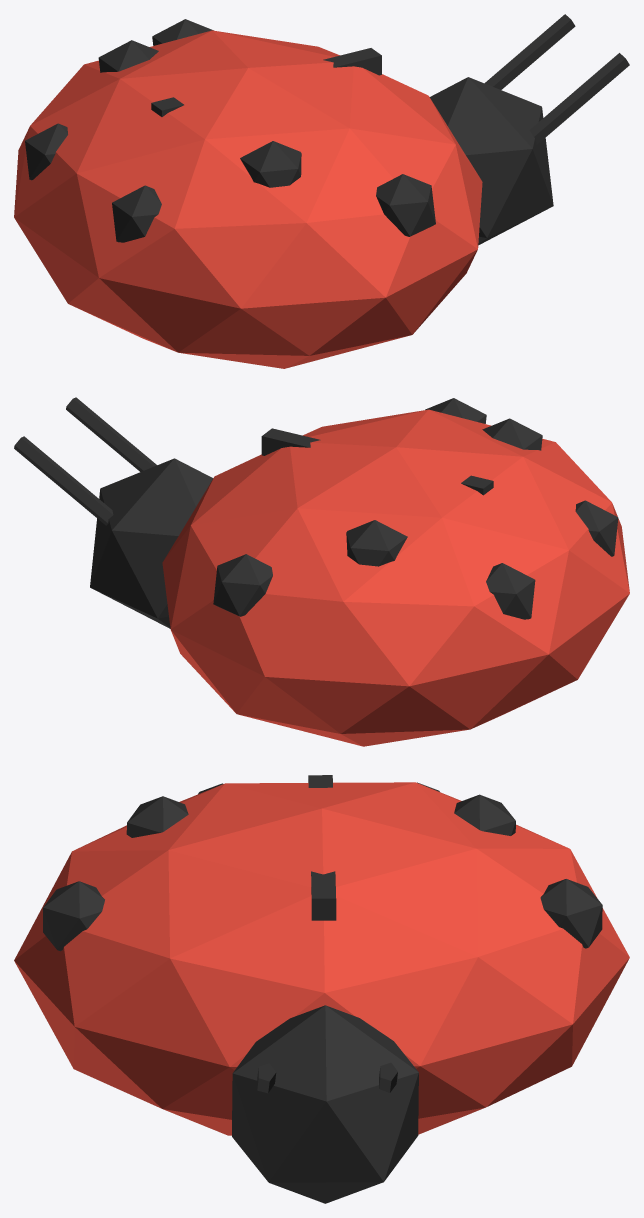
The model's file is ladybug.glb.
3 views of the same model, one above another, from view 1: azimuth 30°, elevation 25°; view 2: azimuth 150°, elevation 25°; view 3: azimuth 270°, elevation 25° (orthographic). The views are drawn at different scales.
Parts seen in each view (by area): view 1: Ladybug.001; view 2: Ladybug.001; view 3: Ladybug.001.
Part boxes in pixels (x1,y1,x2,y2): Ladybug.001: (14, 14, 629, 368); Ladybug.001: (14, 397, 629, 746); Ladybug.001: (14, 775, 629, 1203).
Bounding box in the file's own units: 0.5951 × 0.2728 × 0.506.
